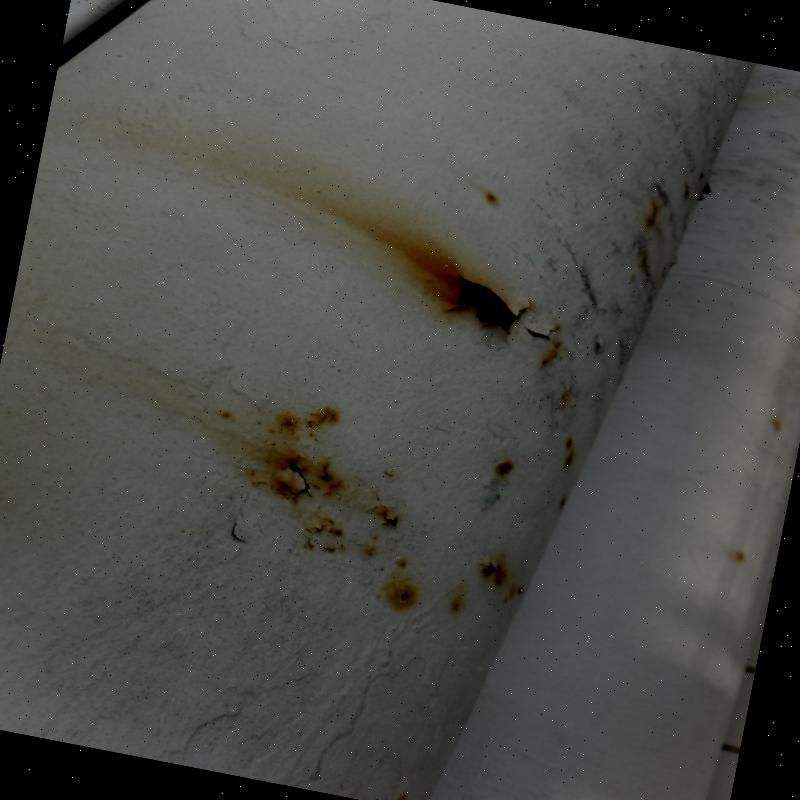corrosion: (444, 278, 526, 331)
